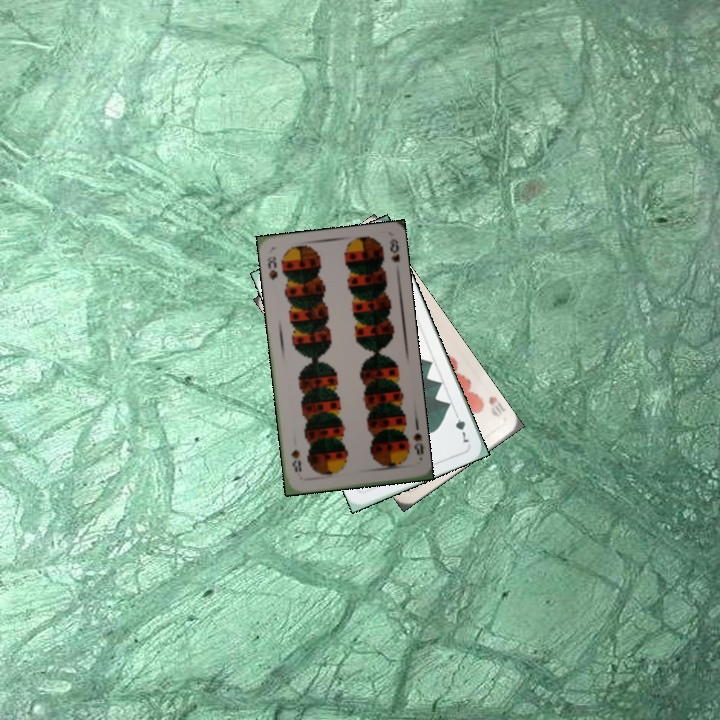G7: (450, 407, 472, 446)
H10: (484, 392, 507, 420)
S8: (263, 252, 280, 283), (409, 429, 426, 458)
